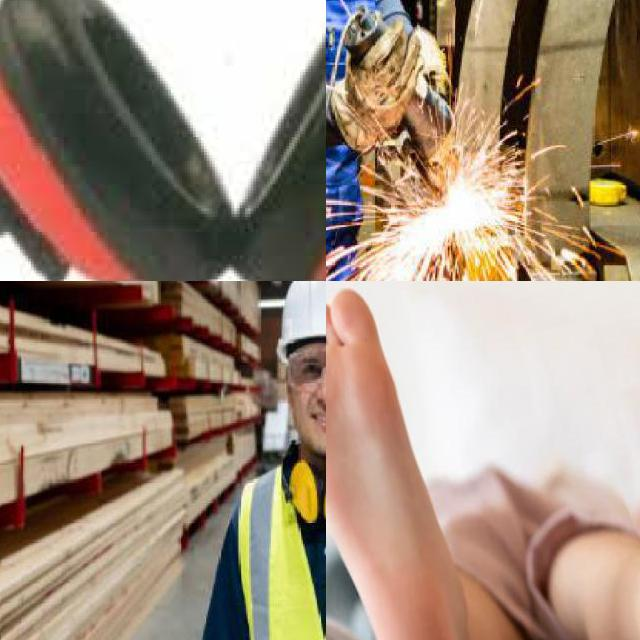Barefoots: (326, 281, 501, 640)
Ear-protection: (0, 0, 226, 281), (229, 0, 326, 281), (274, 441, 326, 529)
glasses: (284, 348, 326, 397)
head_helmet: (266, 281, 326, 365)
person: (183, 281, 326, 640), (326, 0, 426, 281)
vest: (231, 460, 326, 640)
